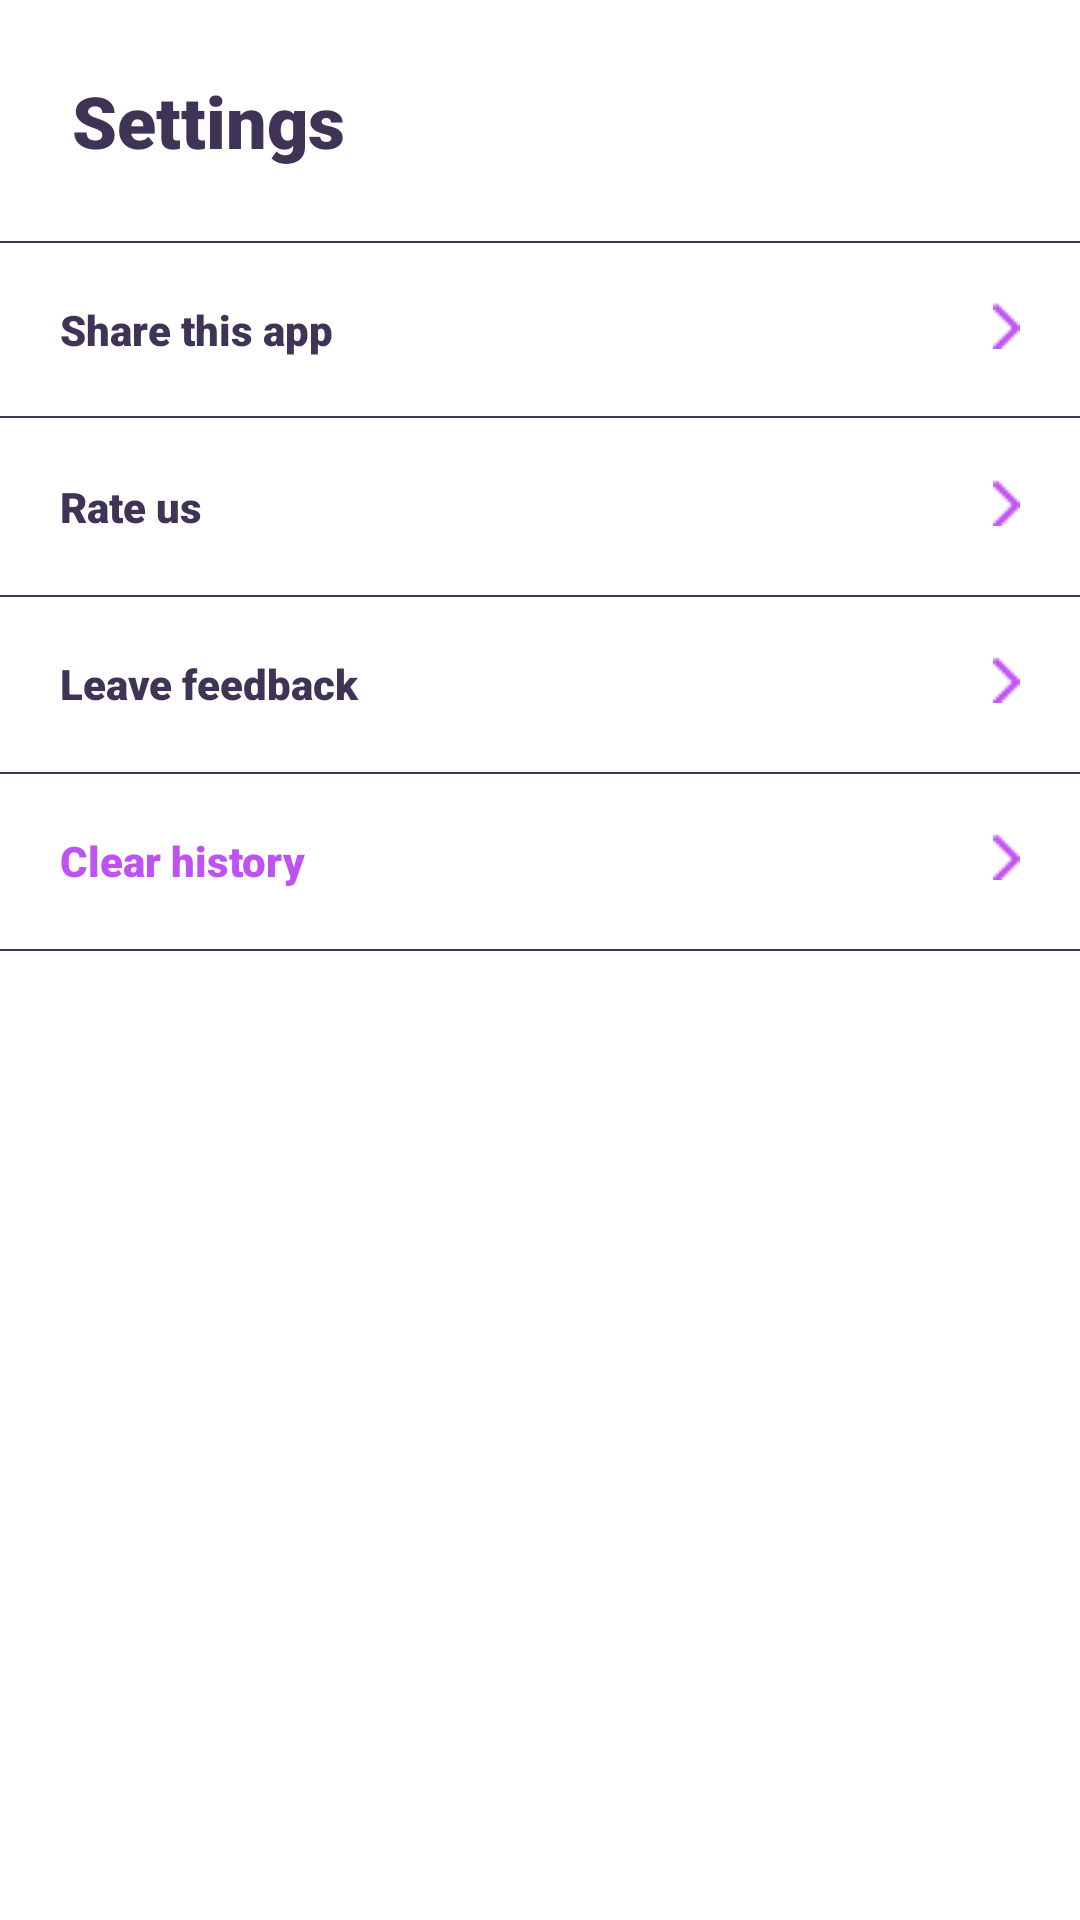

Where icons sit on this 1080w x 1920h app screen, as (left=x1, top=y1, right=x2, bottom=y2):
right: (left=993, top=303, right=1020, bottom=349), (left=993, top=480, right=1020, bottom=526), (left=993, top=657, right=1020, bottom=703), (left=993, top=834, right=1020, bottom=880)
